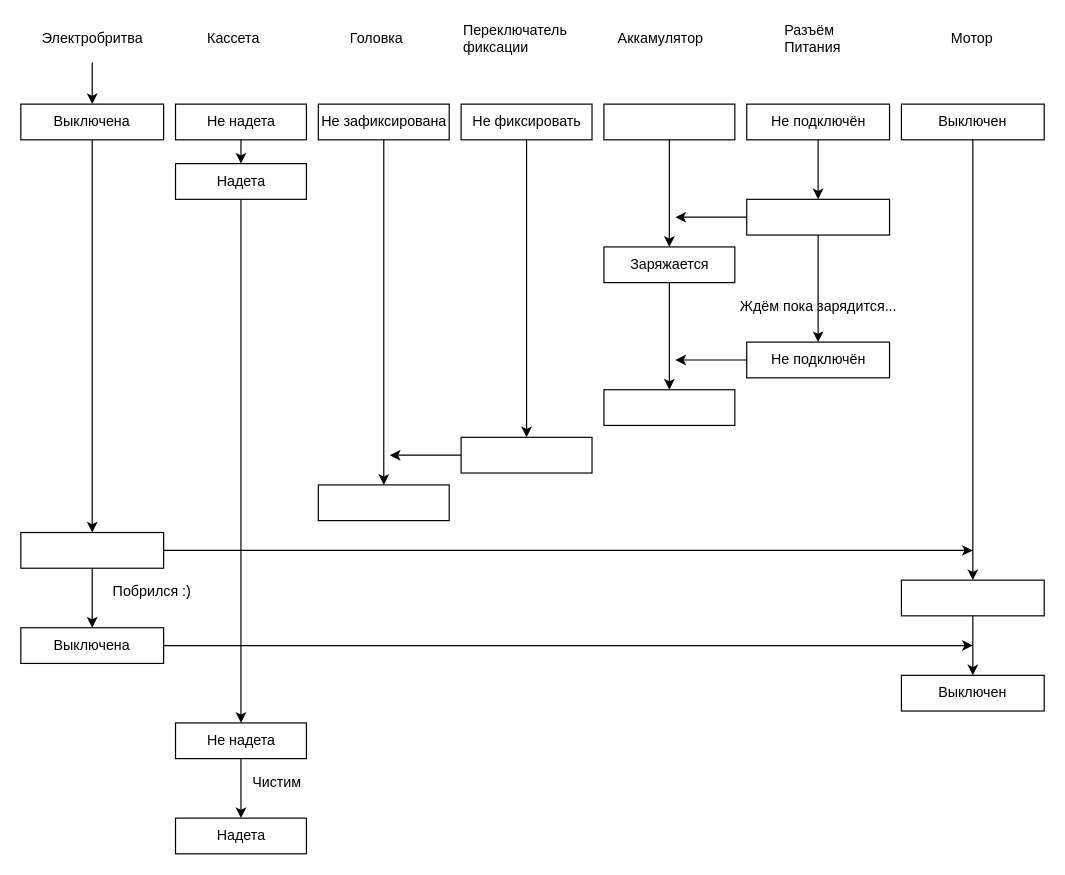
This 1065x875 diagram has some shape labels left out. The centre of each missing label's shape, as x and y in pixels:
"Включен" goes at (x=972, y=597).
"Включена" goes at (x=92, y=549).
"Зафиксирована" goes at (x=383, y=502).
"Не заряжается (Заряжен)" goes at (x=669, y=407).
"Не заряжается (Разряжен)" goes at (x=669, y=121).
"Подключён" goes at (x=818, y=216).
"Фиксировать" goes at (x=526, y=454).
